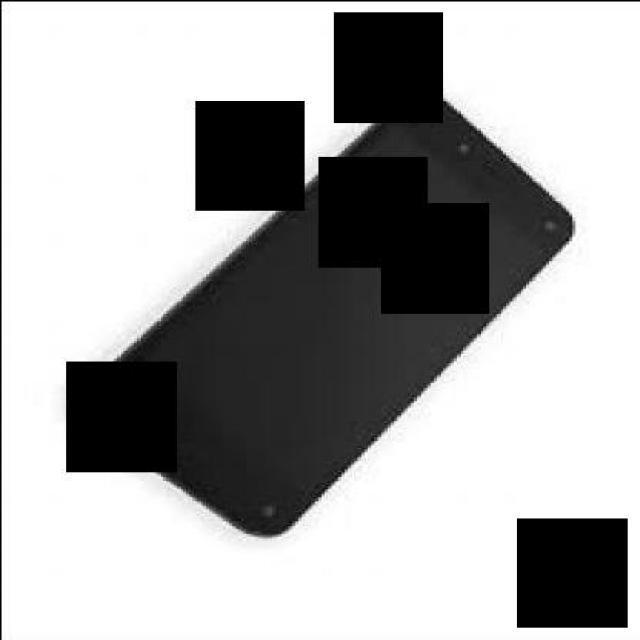fake: (70, 89, 587, 551)
